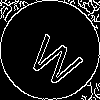W: (25, 25, 90, 90)
